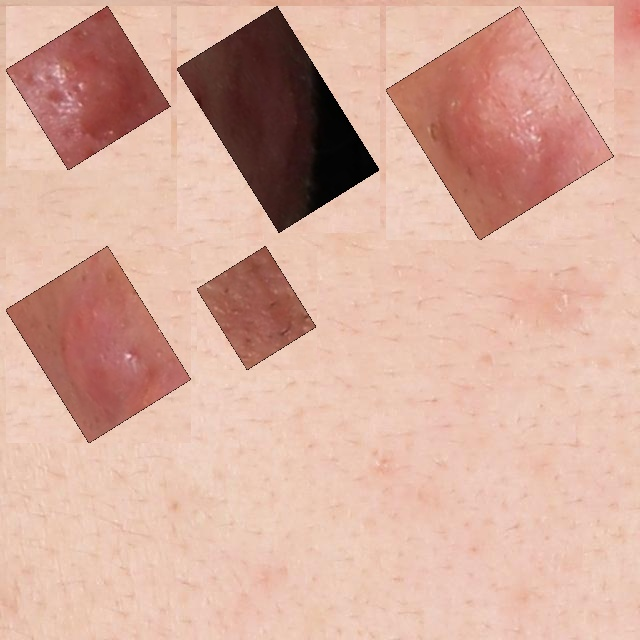nodule: (397, 17, 603, 229), (188, 17, 368, 221), (17, 257, 180, 432), (17, 17, 159, 159), (208, 257, 305, 358)
